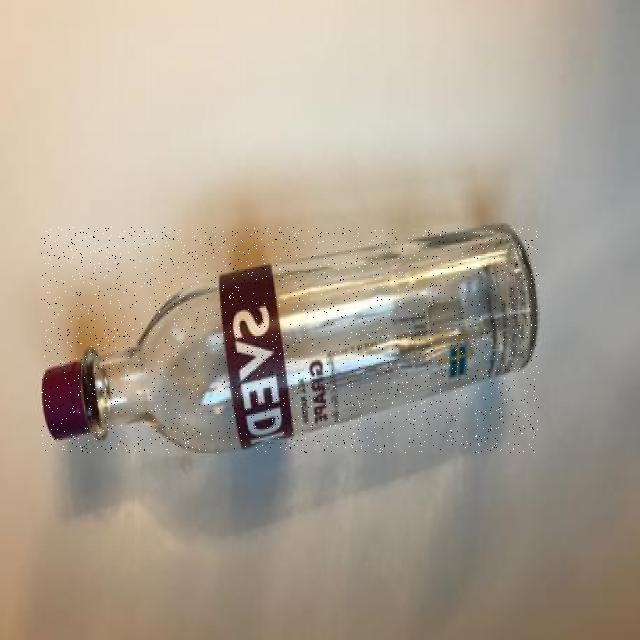glass: (42, 227, 539, 452)
